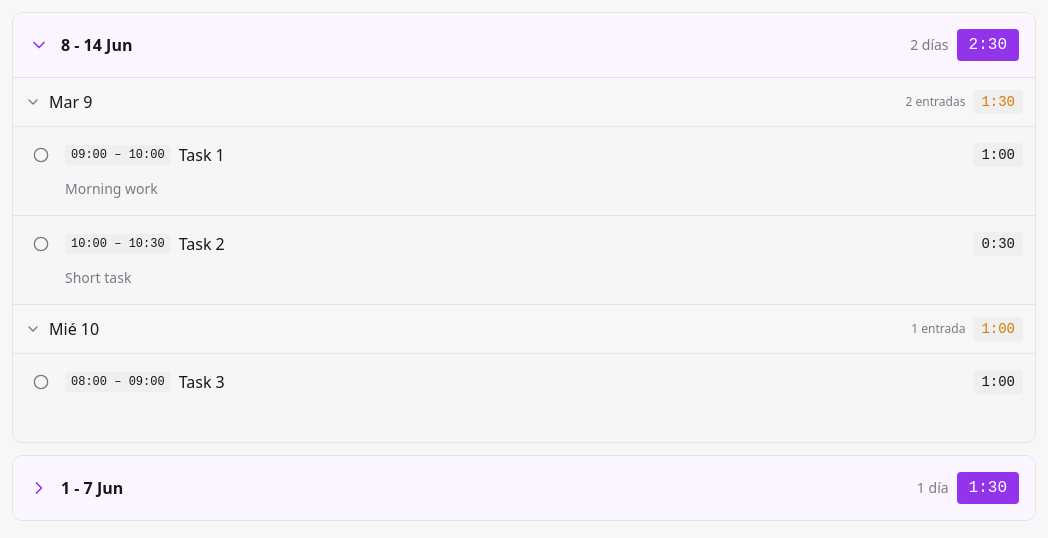
it: GroupedEntryView › expand/collapse › clicking day header toggles expand/collapse
Expected: the text "Task 1" is shown, [179,143,225,167]
Click day header to collapse
Click the text "Mar 9": click(71, 102) [49,90,92,114]
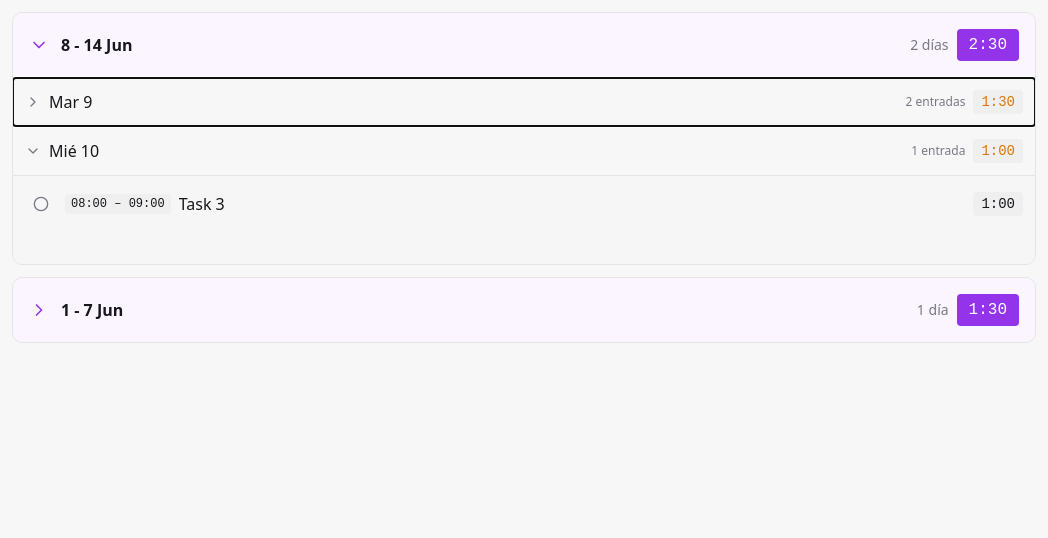
Result: the text "Task 1" is gone
Result: the text "Task 2" is gone
Click again to expand
Click the text "Mar 9": click(71, 102) [49,90,92,114]
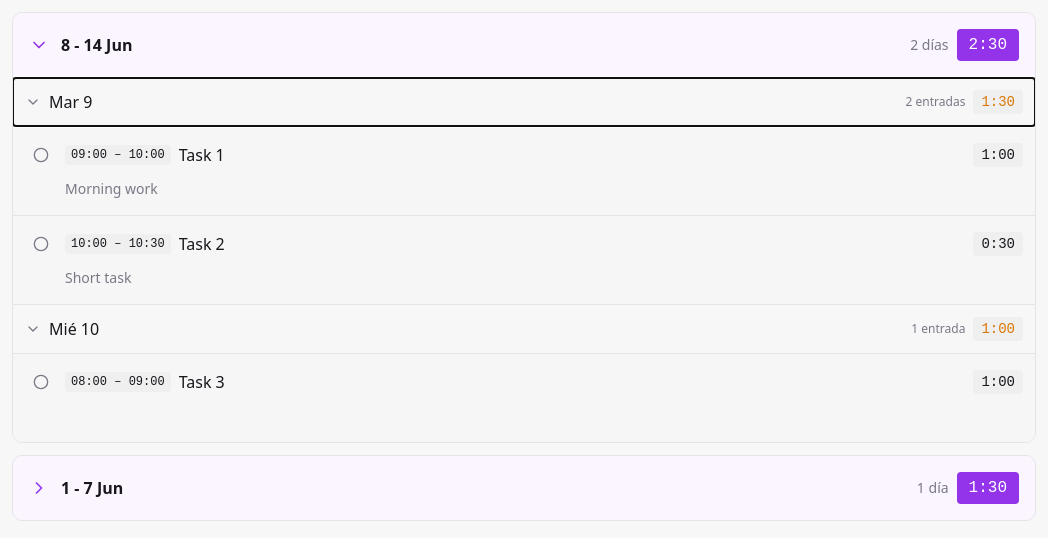
Result: the text "Task 1" is shown at [179,143,225,167]
